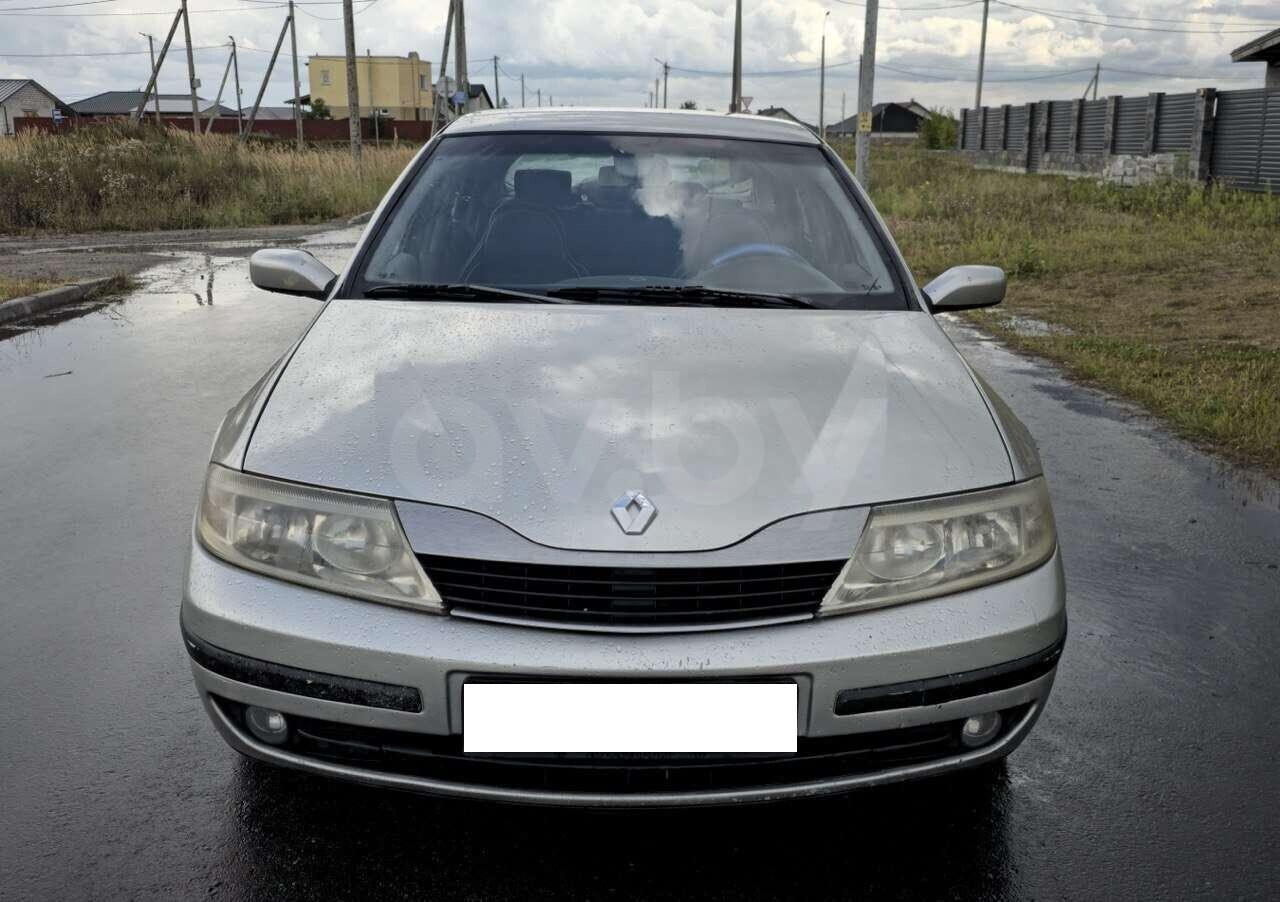Laguna_2001-2005: (180, 109, 1066, 806)
